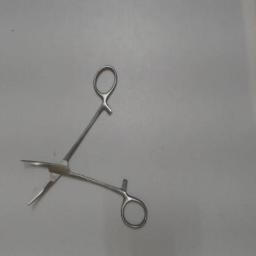Crile Artery Forceps: (17, 60, 151, 232)
